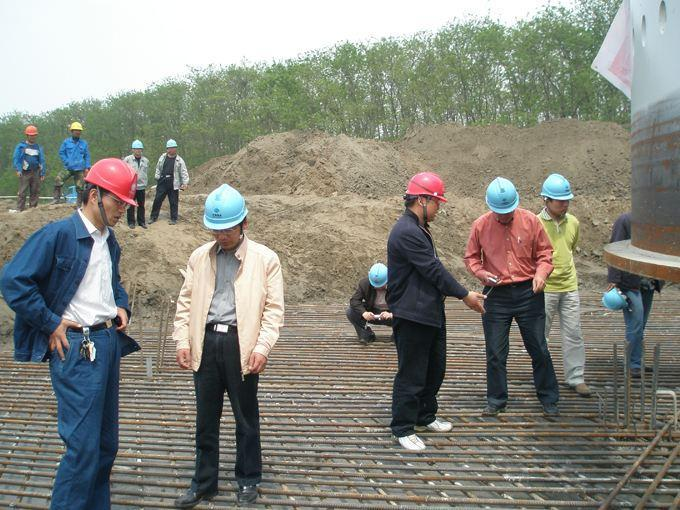helmet: (79, 155, 143, 213), (196, 184, 251, 236), (400, 171, 452, 210), (485, 179, 529, 219), (539, 169, 576, 205)
no-vest: (44, 216, 124, 350), (188, 245, 272, 369), (386, 220, 455, 332), (478, 217, 544, 280)
person: (179, 184, 283, 505), (42, 153, 137, 504), (470, 176, 554, 418), (382, 168, 454, 425), (534, 171, 596, 403), (125, 133, 154, 223), (156, 136, 186, 223), (14, 126, 43, 209), (62, 123, 91, 205)
